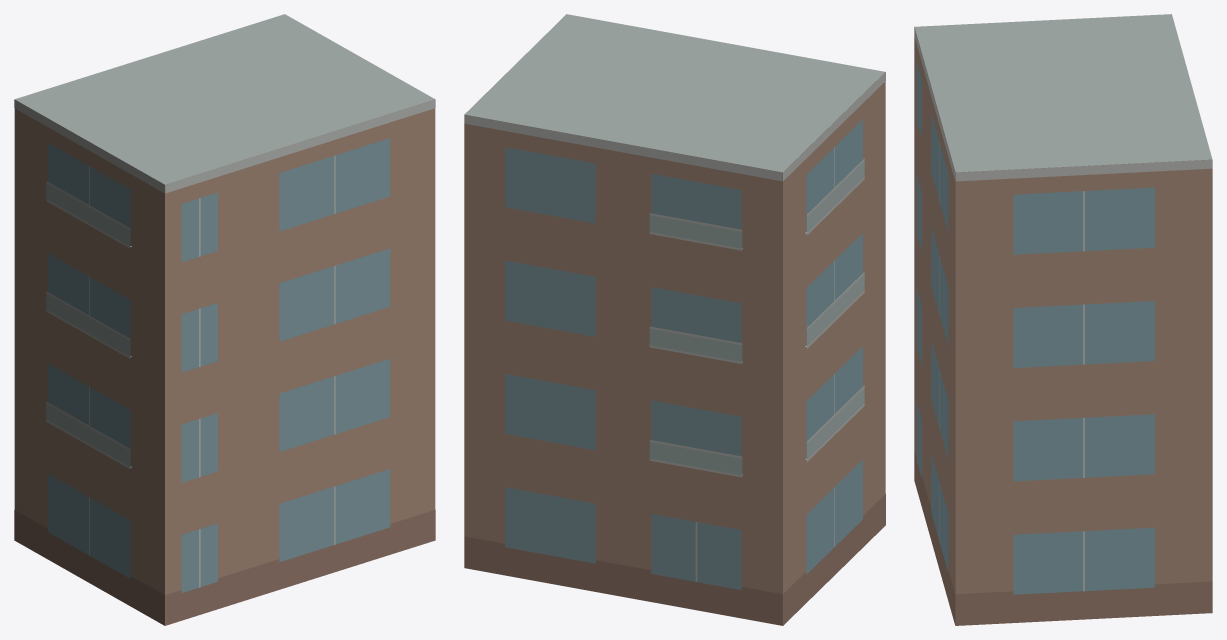
File: residential-dba2c77c-5ef6-44bc-bf57-79bbb7412d35.glb
3 renders of one model, left to right at view 1: azimuth 30°, elevation 25°; view 2: azimuth 150°, elevation 25°; view 3: azimuth 270°, elevation 25°, orthographic. The views are drawn at different scales.
Visible parts, largest first — view 1: residential-dba2c77c-5ef6-44bc-bf57-79bbb7412d35.tmp; view 2: residential-dba2c77c-5ef6-44bc-bf57-79bbb7412d35.tmp; view 3: residential-dba2c77c-5ef6-44bc-bf57-79bbb7412d35.tmp.
Part boxes in pixels (x1,y1,x2,y2): residential-dba2c77c-5ef6-44bc-bf57-79bbb7412d35.tmp: (14,14,435,625); residential-dba2c77c-5ef6-44bc-bf57-79bbb7412d35.tmp: (464,14,885,625); residential-dba2c77c-5ef6-44bc-bf57-79bbb7412d35.tmp: (914,14,1212,625).
Size of the model in its own units: 9.15 by 12.2 by 7.28.
